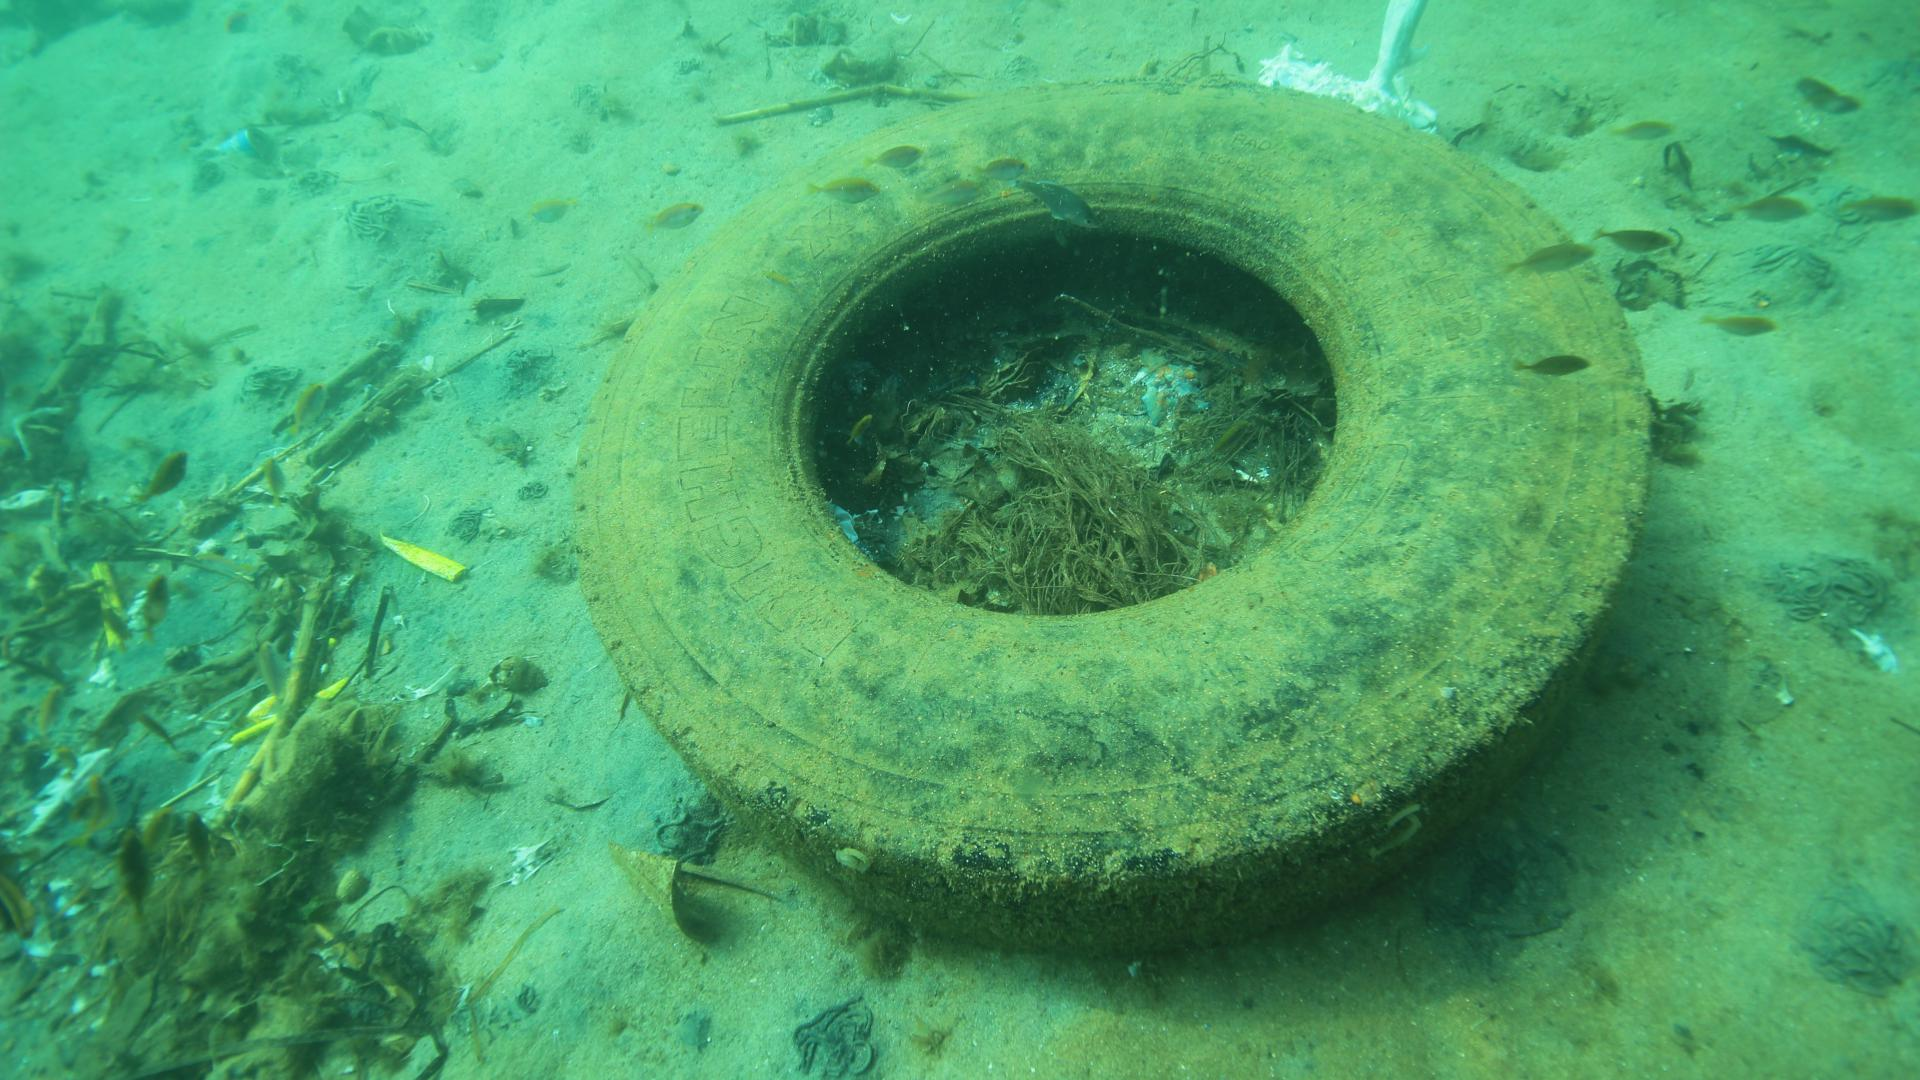tire: (575, 79, 1658, 957)
